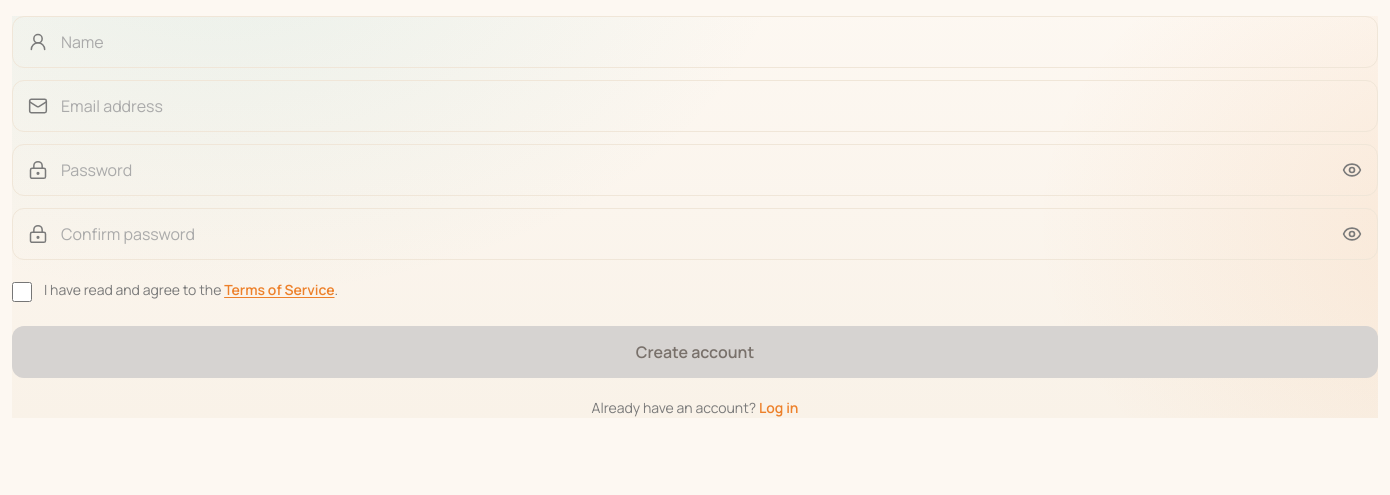
Test: SignUpForm › explains a password mismatch and clears the warning when corrected
In the password field with placeholder "Password": (695, 170) [12,144,1378,196], type "secure-password"
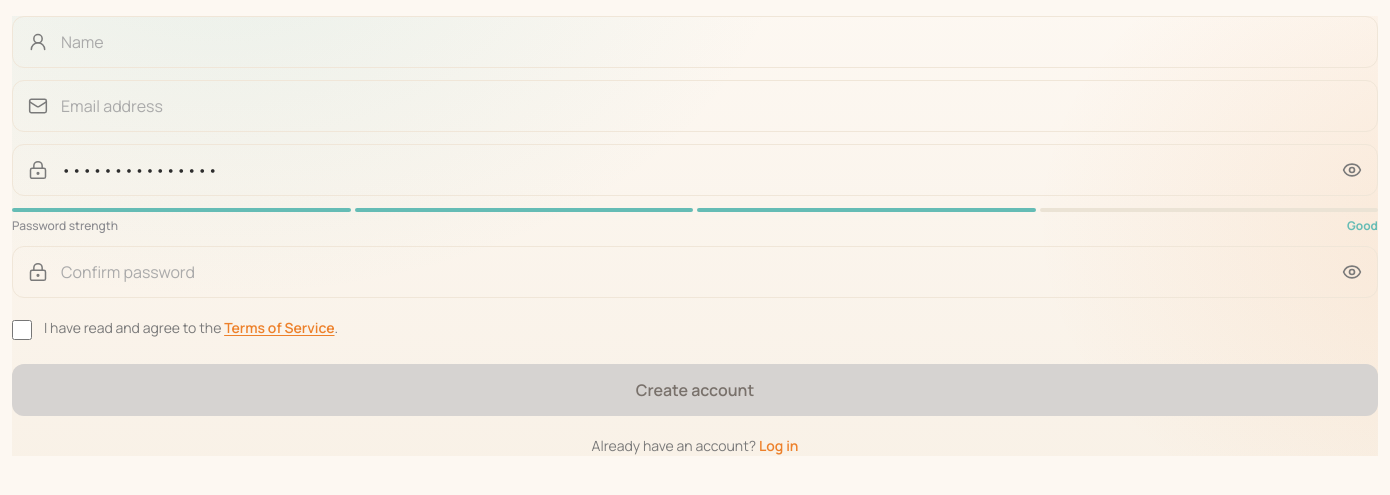
In the password field with placeholder "Confirm password": (695, 272) [12,246,1378,298], type "different-password"
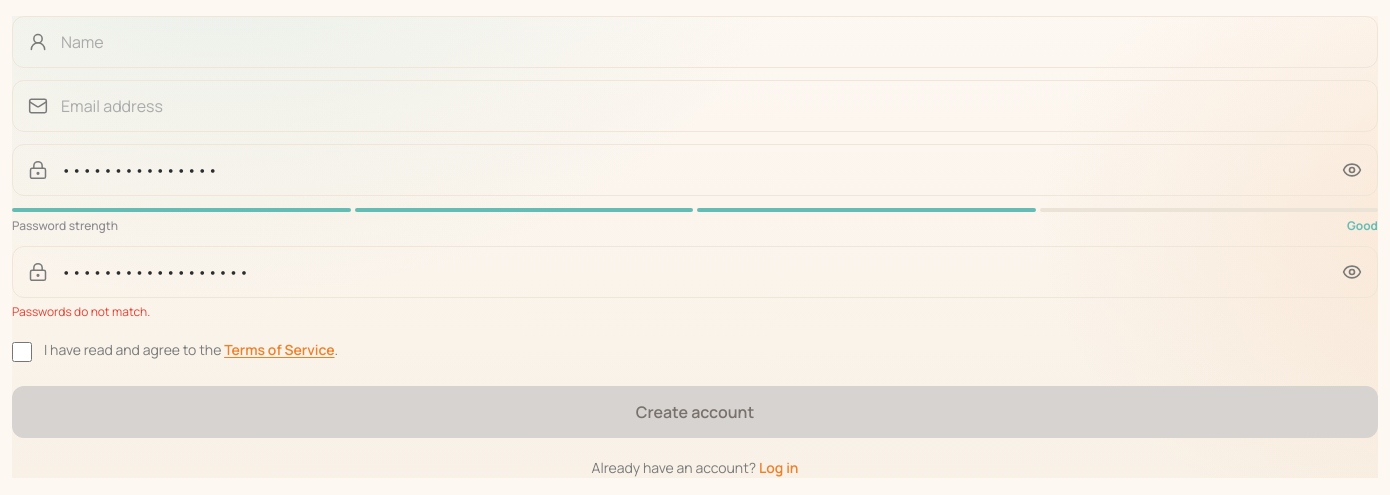
Expected: the button "Create account" is disabled, [12,386,1378,438]
Now the text "Passwords do not match." is shown, box [12,303,150,320]
In the 2nd password field with placeholder "Confirm password": (695, 272) [12,246,1378,298], type "secure-password"
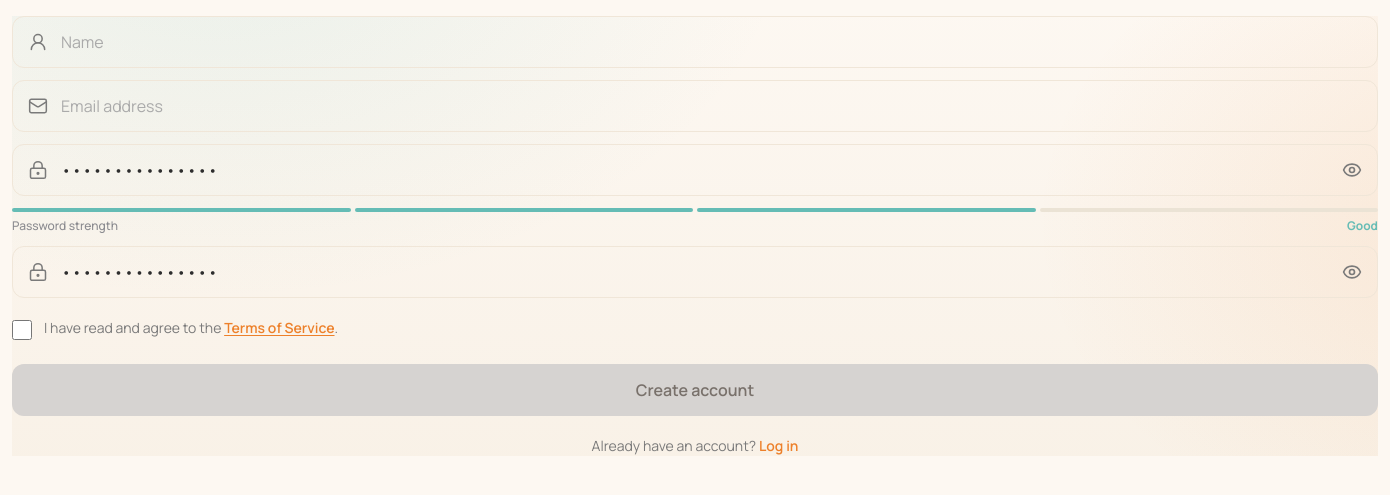
Now the text "Passwords do not match." is gone
